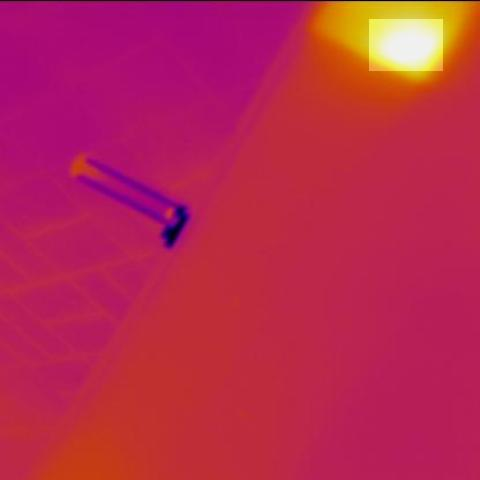fault: (369, 19, 443, 72)
